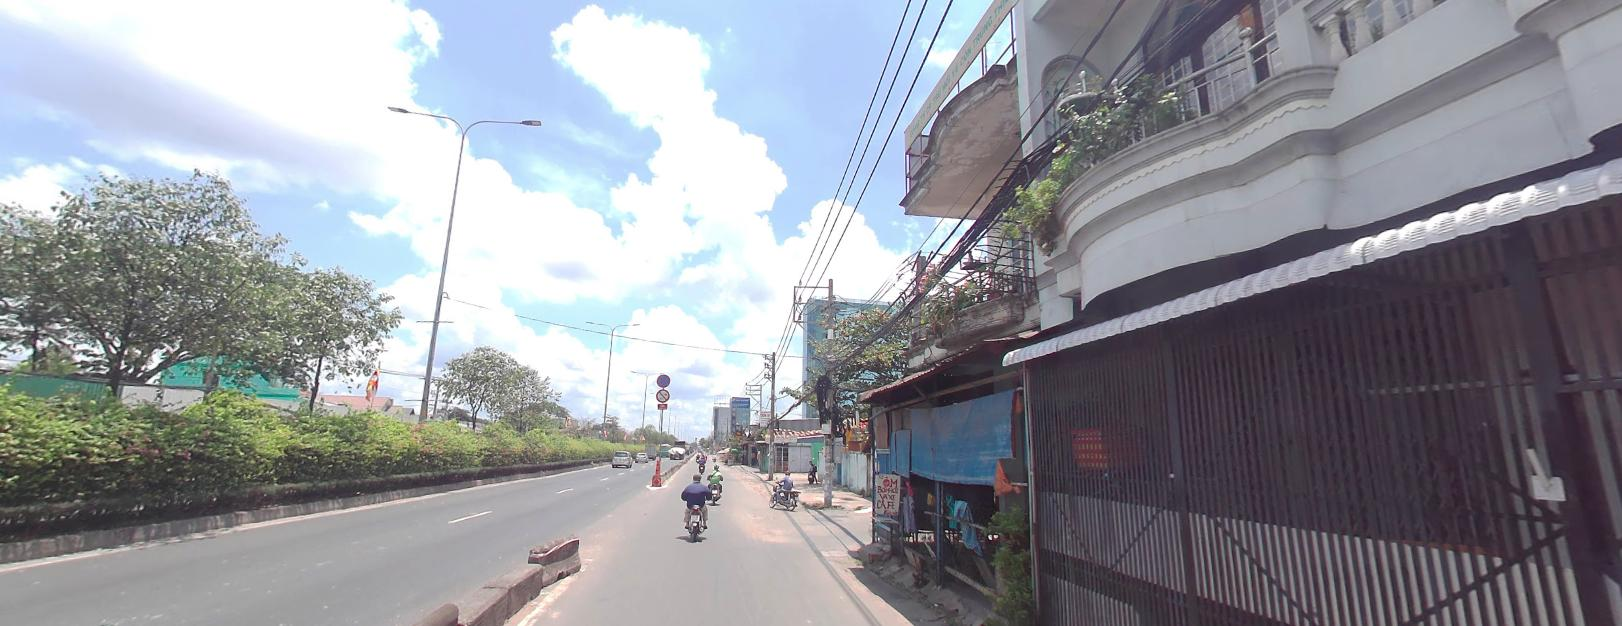Cam con lai: (655, 387, 669, 401)
Cam dung va do: (656, 371, 670, 385)
